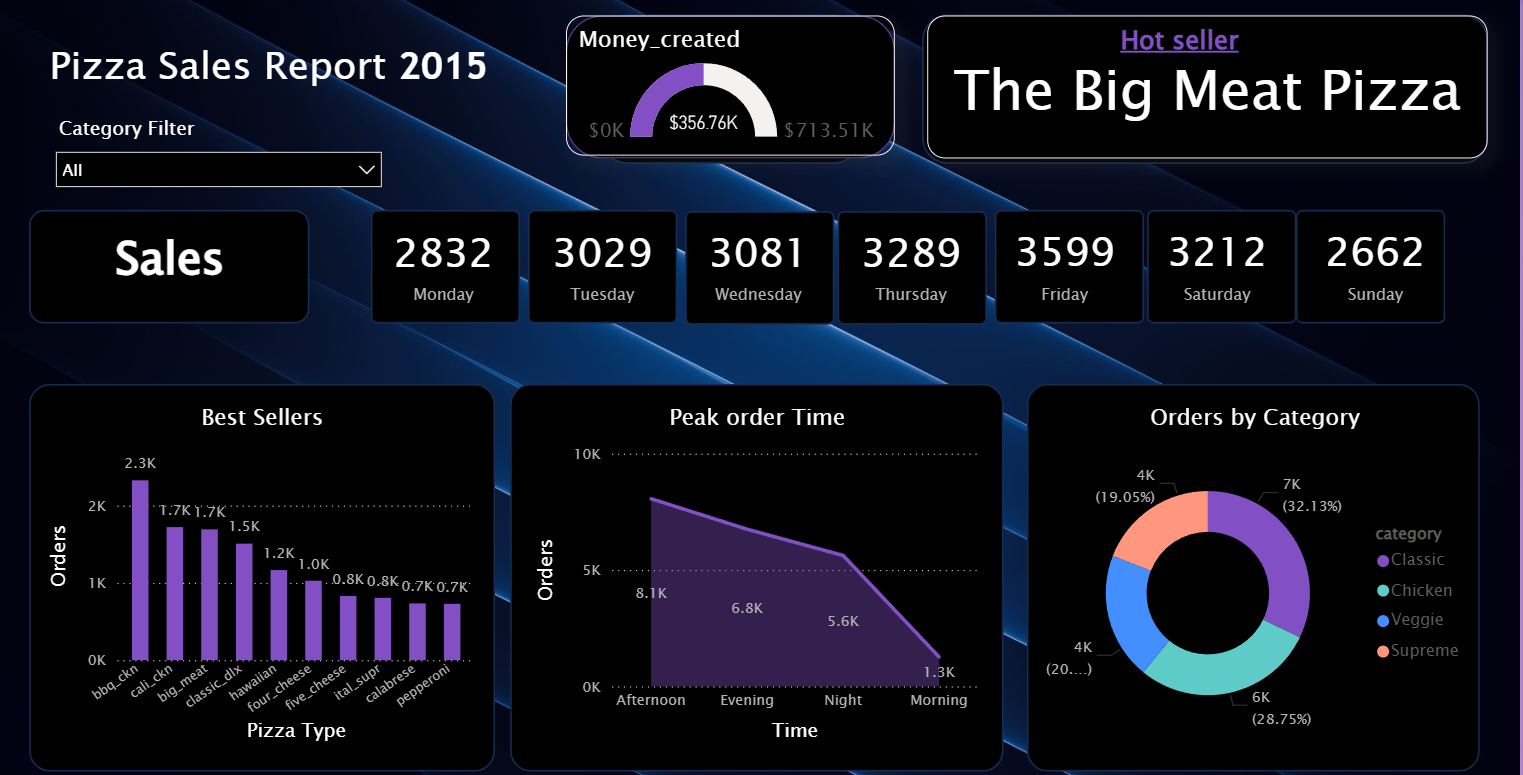

The page's visual inventory and layout, read from the dashboard file:
{"tool":"powerbi","page":{"name":"Page 1","canvas":[1280,720],"ordinal":0},"visuals":[{"type":"shape","box":[478.8,15,276.2,120],"z":0},{"type":"textbox","box":[40,28.8,396.2,97.5],"z":1000},{"type":"slicer","title":"Top Category Performance","fields":{"Values":["pizzas.pizza_type_id","pizzas.Total_orders"]},"box":[40,92.5,293.8,67.5],"z":2000},{"type":"card","fields":{"Values":["orders_id.Monday_sales"]},"box":[316.2,180,120,85],"z":3000},{"type":"card","fields":{"Values":["orders_id.Tuesday_sales"]},"box":[448.8,180,120,85],"z":4000},{"type":"card","fields":{"Values":["orders_id.Wednesday_sales"]},"box":[580,180,120,85],"z":5000},{"type":"card","fields":{"Values":["orders_id.Thursday_sales"]},"box":[708.8,180,120,85],"z":6000},{"type":"card","fields":{"Values":["orders_id.Friday_sales"]},"box":[837.2,180.2,119.8,84.9],"z":7000},{"type":"card","fields":{"Values":["orders_id.Saturday_sales"]},"box":[965.1,180.2,119.8,84.9],"z":8000},{"type":"card","fields":{"Values":["orders_id.Sunday_sales"]},"box":[1097.7,180.2,120.9,84.9],"z":9000},{"type":"textbox","box":[62.5,186.2,166.2,78.8],"z":10000},{"type":"stackedAreaChart","title":"Peak order Time","fields":{"Category":["orders_id.order_time"],"Y":["Sum(orders_id.orders_details.quantity)"]},"box":[448.8,337.5,380,295],"z":11000},{"type":"gauge","fields":{"Y":["orders_details.Money_created"]},"box":[478.8,15,276.2,117.5],"z":12000},{"type":"card","fields":{"Values":["pizzas.Hot_seller"]},"box":[781.2,15,470,120],"z":13000},{"type":"donutChart","title":"Orders by Category","fields":{"Category":["pizza_types.category"],"Y":["Sum(pizzas.Total_orders)"]},"box":[872.5,337.5,370,295],"z":14000},{"type":"textbox","box":[880,15,226.2,43.8],"z":15000},{"type":"columnChart","title":"Best Sellers","fields":{"Category":["pizzas.pizza_type_id"],"Y":["Sum(pizzas.Total_orders)"]},"box":[40,337.5,367.5,295],"z":16000}]}

Visuals, with their boxes on the page's 1280x720 design canvas (x1, y1, x2, y2). These are canvas units, not pixel positions in the 1523x775 screenshot, which may show the page scaled, cropped or inside an application window:
shape: <bbox>479, 15, 755, 135</bbox>
textbox: <bbox>40, 29, 436, 126</bbox>
"Top Category Performance" slicer: <bbox>40, 92, 334, 160</bbox>
card - orders_id.Monday_sales: <bbox>316, 180, 436, 265</bbox>
card - orders_id.Tuesday_sales: <bbox>449, 180, 569, 265</bbox>
card - orders_id.Wednesday_sales: <bbox>580, 180, 700, 265</bbox>
card - orders_id.Thursday_sales: <bbox>709, 180, 829, 265</bbox>
card - orders_id.Friday_sales: <bbox>837, 180, 957, 265</bbox>
card - orders_id.Saturday_sales: <bbox>965, 180, 1085, 265</bbox>
card - orders_id.Sunday_sales: <bbox>1098, 180, 1219, 265</bbox>
textbox: <bbox>62, 186, 229, 265</bbox>
"Peak order Time" stackedAreaChart: <bbox>449, 338, 829, 632</bbox>
gauge - orders_details.Money_created: <bbox>479, 15, 755, 132</bbox>
card - pizzas.Hot_seller: <bbox>781, 15, 1251, 135</bbox>
"Orders by Category" donutChart: <bbox>872, 338, 1242, 632</bbox>
textbox: <bbox>880, 15, 1106, 59</bbox>
"Best Sellers" columnChart: <bbox>40, 338, 408, 632</bbox>
